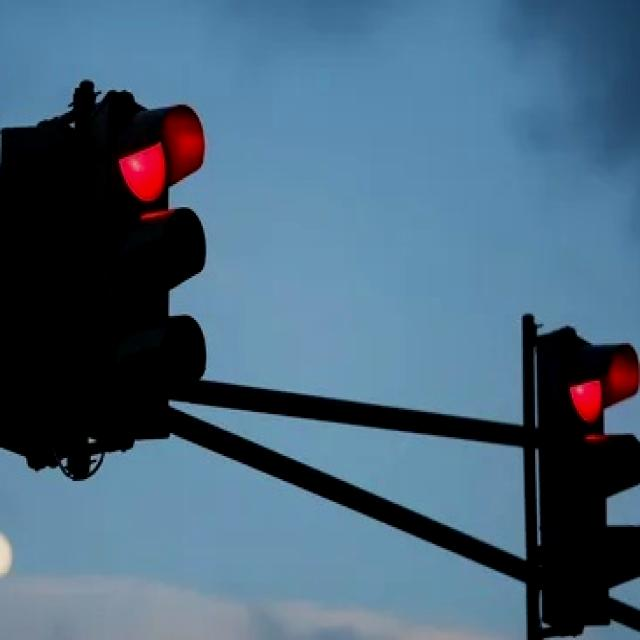kirmizi: (90, 104, 207, 433), (541, 338, 640, 620)
